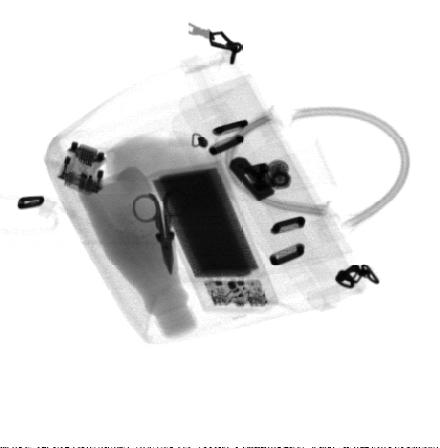Powerbank: (146, 161, 283, 314)
Scissors: (131, 187, 190, 281)
